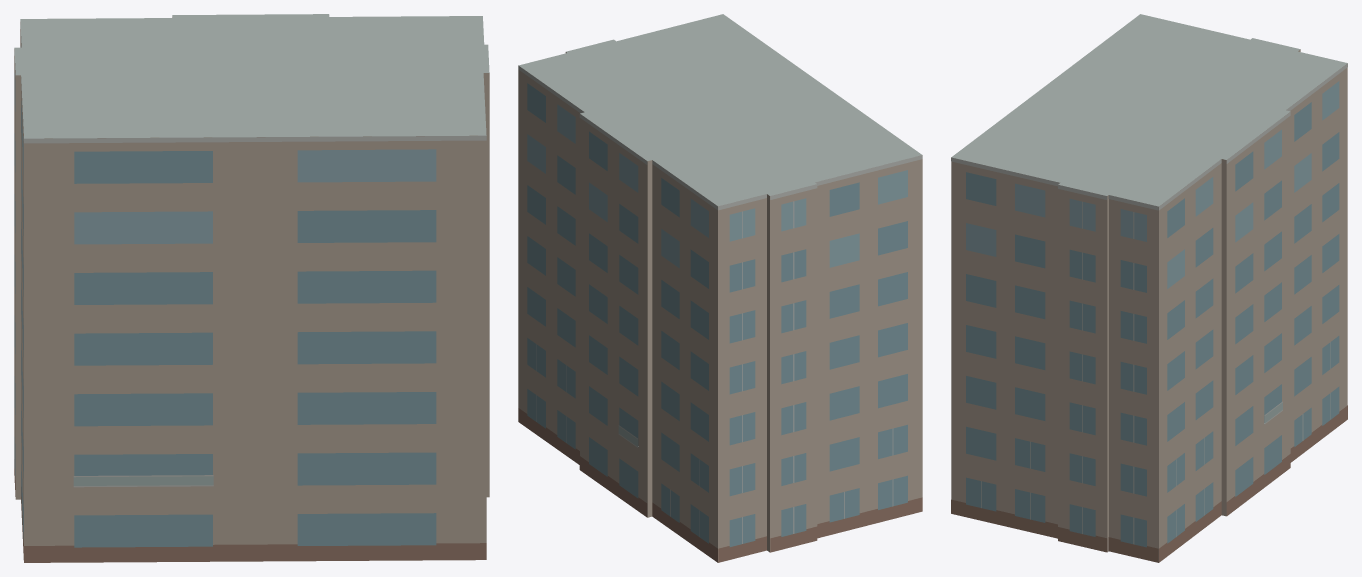
File: survey-upis-32963792.glb
3 views of the same model, side by side, from view 1: azimuth 30°, elevation 25°; view 2: azimuth 150°, elevation 25°; view 3: azimuth 270°, elevation 25° (orthographic). The views are drawn at different scales.
Parts seen in each view (by area): view 1: survey-upis-32963792.tmp; view 2: survey-upis-32963792.tmp; view 3: survey-upis-32963792.tmp.
Part boxes in pixels (bbox=[...]): survey-upis-32963792.tmp: bbox=[14, 14, 489, 562]; survey-upis-32963792.tmp: bbox=[518, 14, 922, 562]; survey-upis-32963792.tmp: bbox=[951, 14, 1347, 562].
Bounding box in the file's own units: 24.75 × 21.35 × 21.55.
